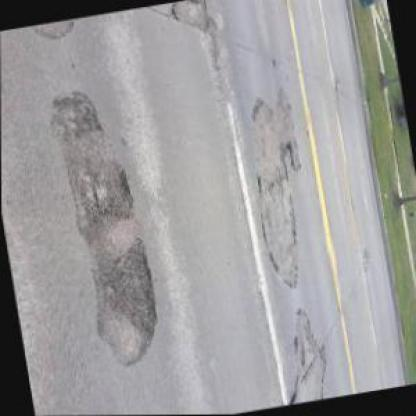pothole: (95, 236, 160, 341), (70, 161, 138, 227), (47, 89, 107, 140), (279, 139, 295, 155)
